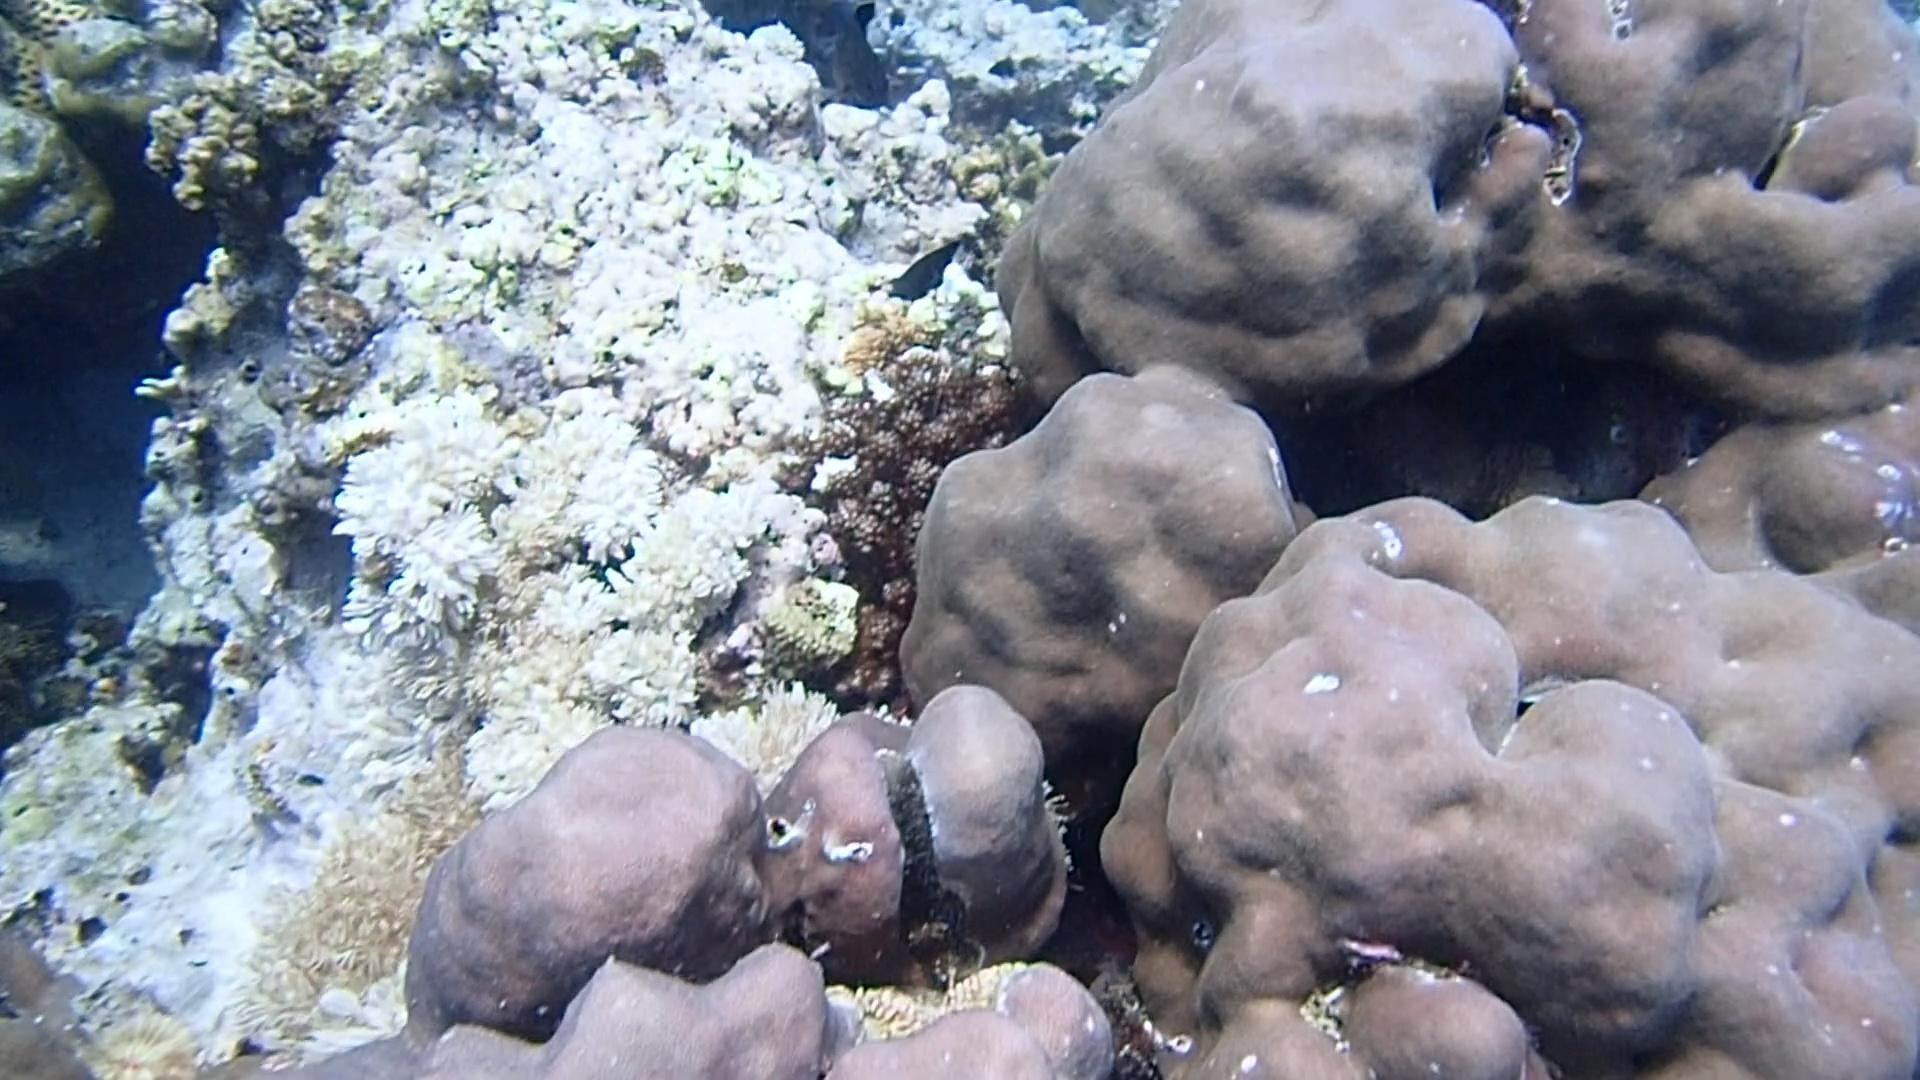Dark Fish: (812, 0, 902, 115), (884, 231, 963, 310), (986, 50, 1019, 86)
